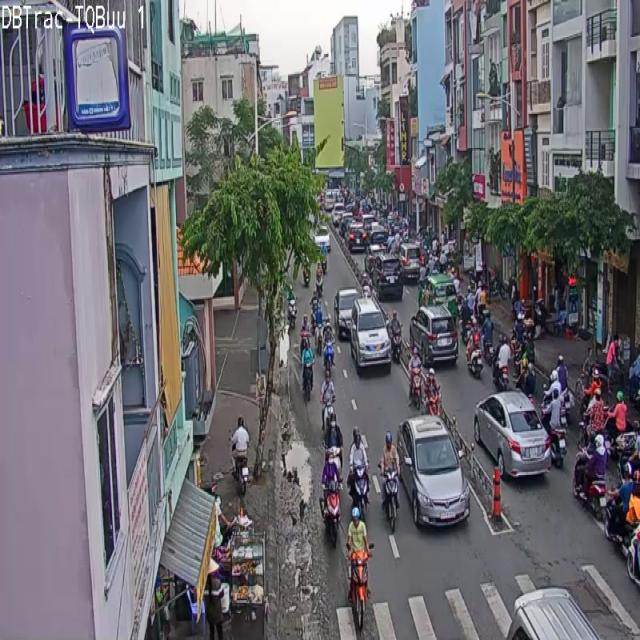car: (346, 508, 370, 630), (572, 434, 607, 513), (379, 434, 399, 530), (349, 428, 368, 516), (321, 462, 339, 545)
traffic-light: (398, 415, 469, 525), (474, 390, 550, 478), (350, 299, 390, 374), (410, 306, 458, 366), (373, 253, 403, 299)
